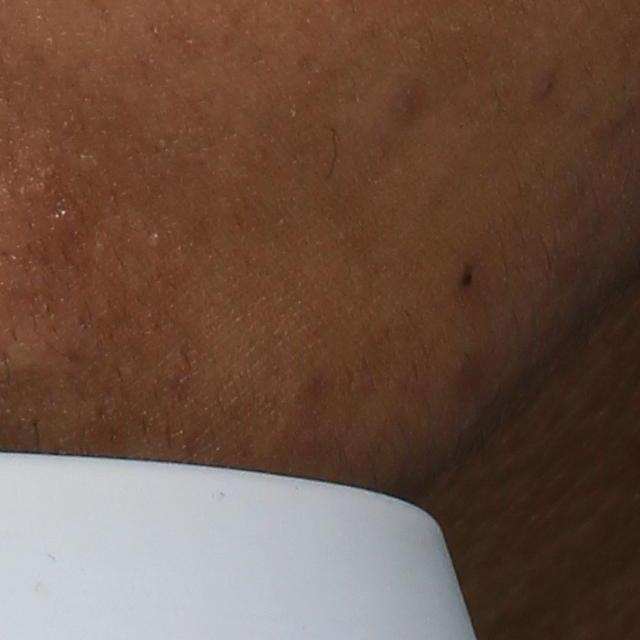nevus: (455, 267, 477, 289)
